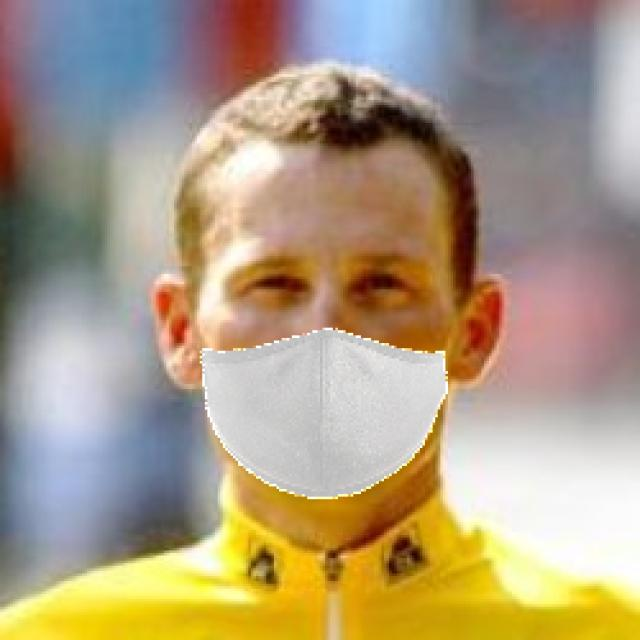mask: (169, 313, 481, 528)
